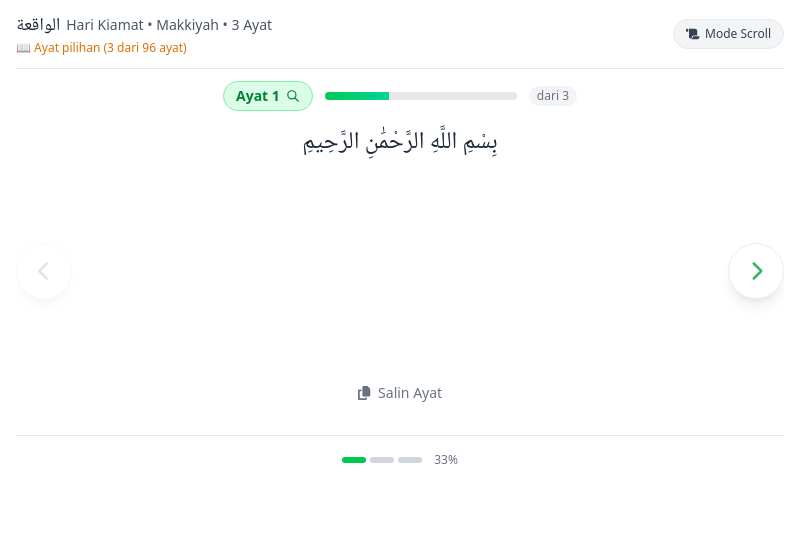
Test case: QuranReader › Jump to Ayat › should open jump input when clicking ayat number
This screenshot has width=801, height=539.
Click the button "Ayat 1".
click(268, 96)  # box [223,81,313,111]
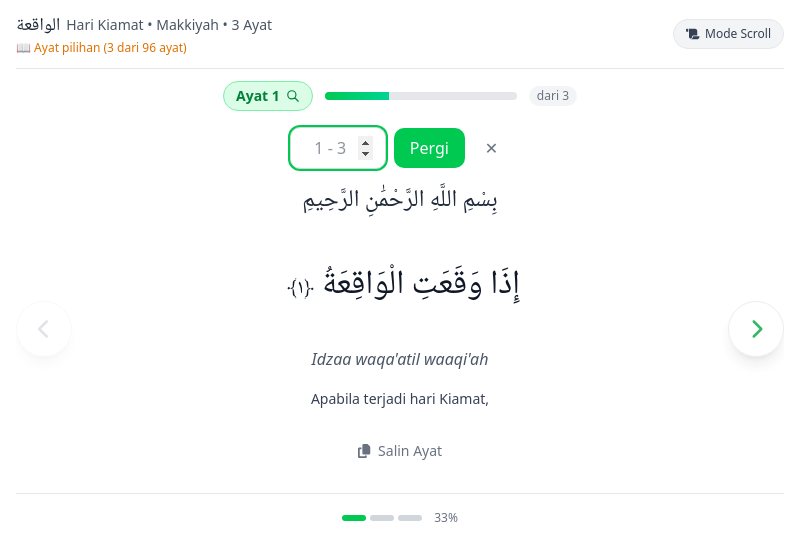
Expected: the number field with placeholder "1 - 3" is shown, [290,127,386,169]
Expected: the button "Pergi" is shown, [394,128,465,168]
